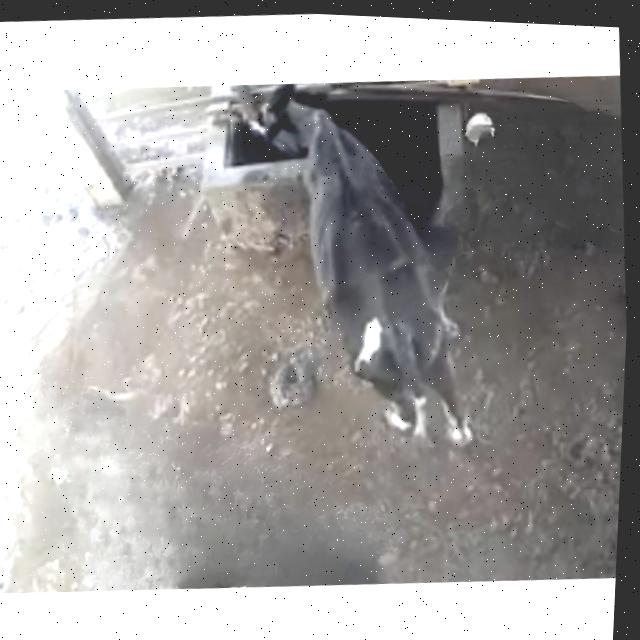drink: (224, 75, 378, 219)
